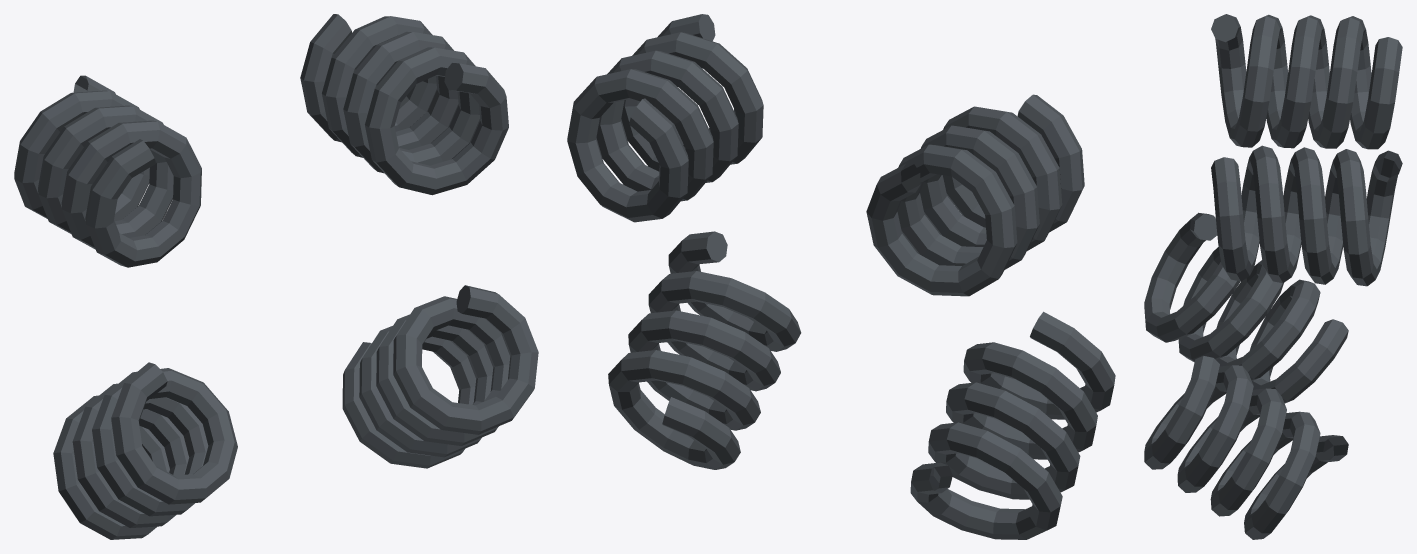
File: Personal_Vehicle_01_Springs_Yellow.fbx
The picture shows the model from 3 angles, left to right: view 1: azimuth 30°, elevation 25°; view 2: azimuth 150°, elevation 25°; view 3: azimuth 270°, elevation 25°; orthographic projection. The views are drawn at different scales.
Visible parts, largest first — view 1: Personal_Vehicle_01_Springs_Yellow; view 2: Personal_Vehicle_01_Springs_Yellow; view 3: Personal_Vehicle_01_Springs_Yellow.
Part boxes in pixels (box(x1,y1,x2,y2)): Personal_Vehicle_01_Springs_Yellow: box(14, 14, 538, 539); Personal_Vehicle_01_Springs_Yellow: box(567, 14, 1115, 539); Personal_Vehicle_01_Springs_Yellow: box(1144, 14, 1402, 539).
Size of the model in its own units: 52.23 by 48.29 by 29.65.
1 material, 1 textured.
